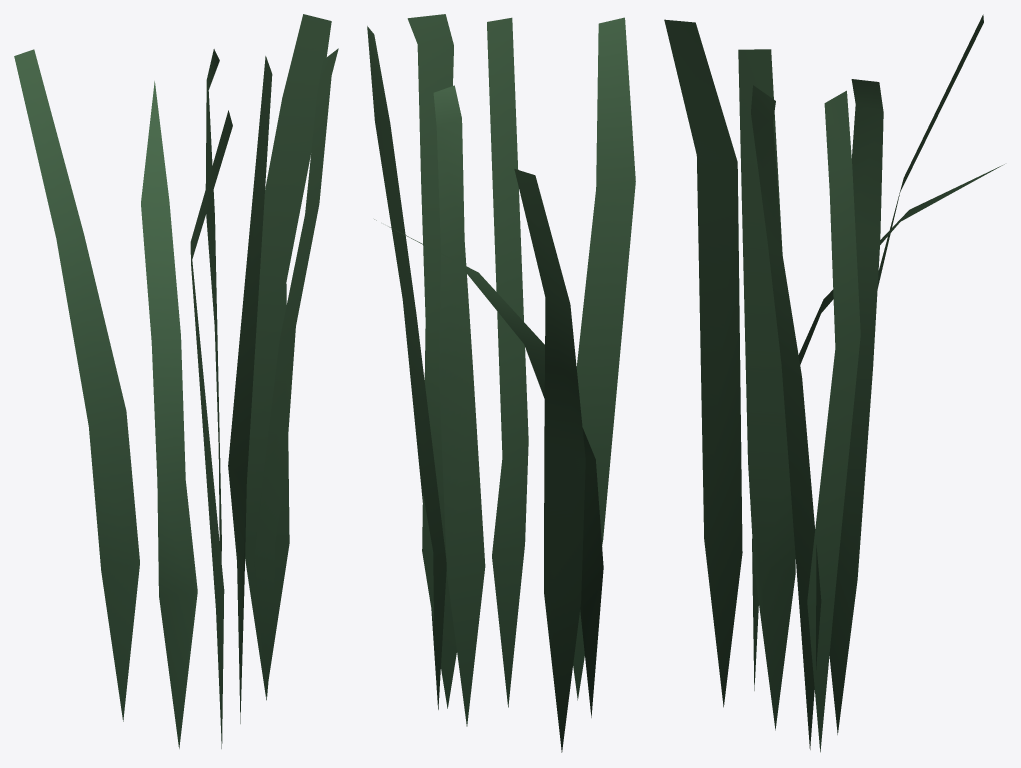
The model's file is trees-grasses-tall-grass_v12.glb.
3 views of the same model, side by side, from view 1: azimuth 30°, elevation 25°; view 2: azimuth 150°, elevation 25°; view 3: azimuth 270°, elevation 25° (orthographic). The views are drawn at different scales.
Parts seen in each view (by area): view 1: Tall Grass_v12; view 2: Tall Grass_v12; view 3: Tall Grass_v12.
Part boxes in pixels (<box>): Tall Grass_v12: <box>14,14,338,748</box>; Tall Grass_v12: <box>367,14,635,752</box>; Tall Grass_v12: <box>664,14,1004,752</box>.
Size of the model in its own units: 0.1895 by 0.5 by 0.2238.
